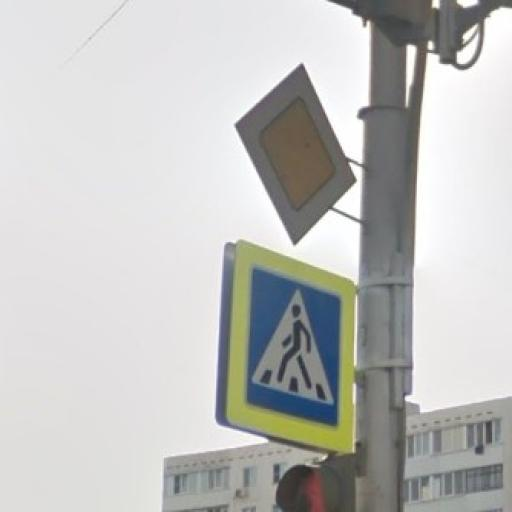traffic_sign: (225, 237, 357, 458), (236, 59, 358, 248)
